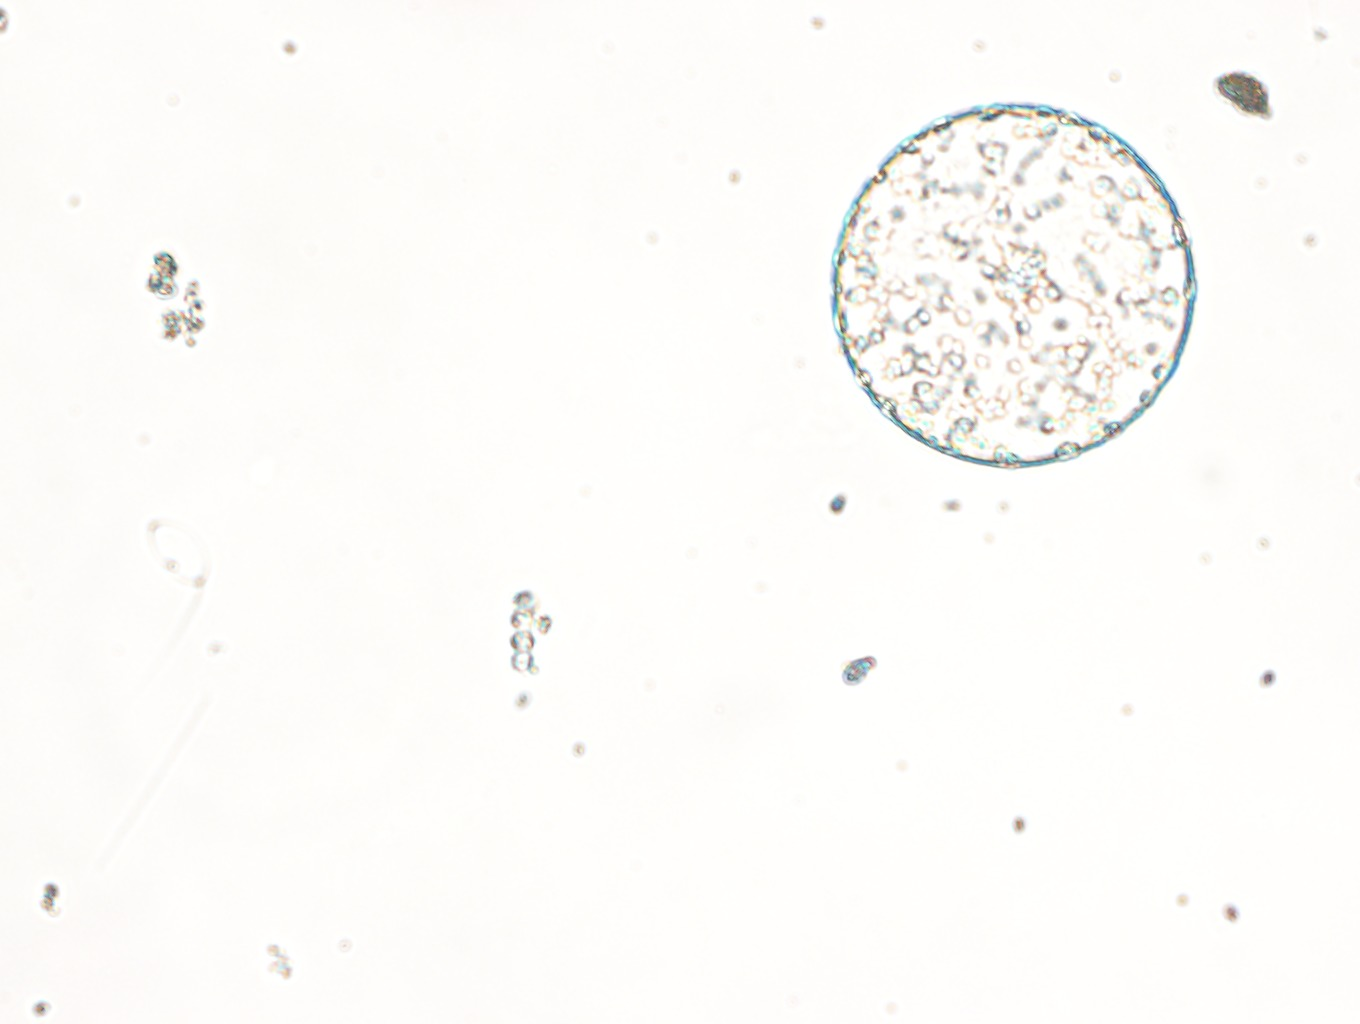coscinodiscus: (829, 98, 1196, 469)
